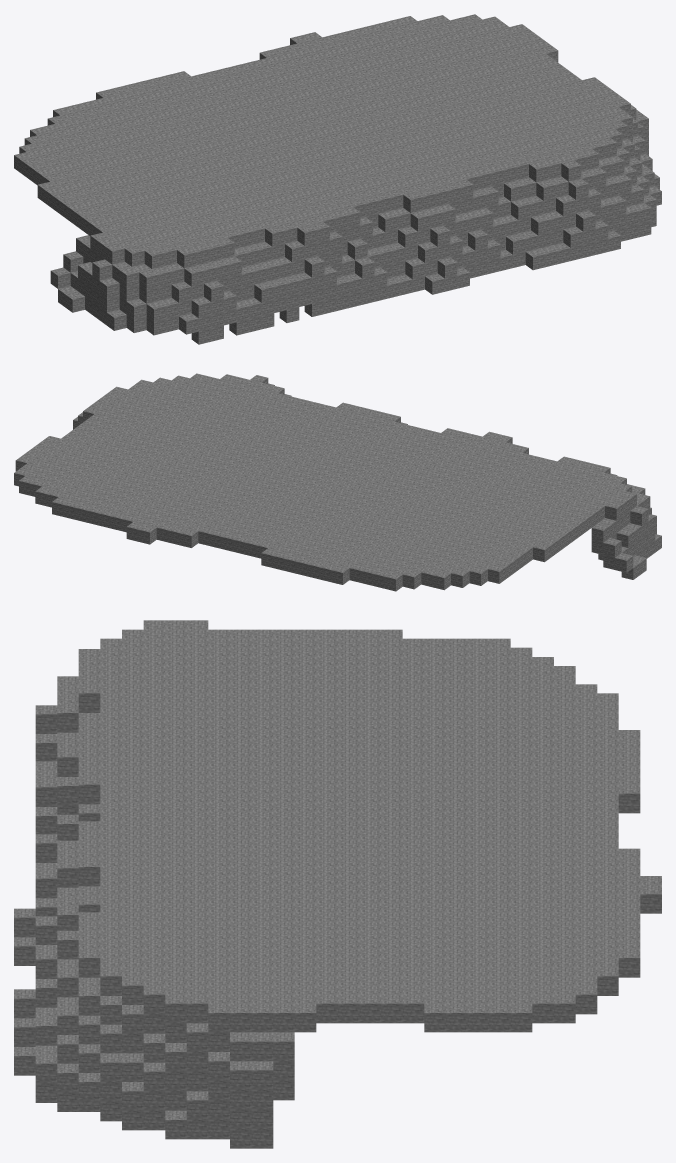
File: stone-terrain.glb
3 renders of one model, top to bottom at view 1: azimuth 30°, elevation 25°; view 2: azimuth 150°, elevation 25°; view 3: azimuth 270°, elevation 25°, orthographic. The views are drawn at different scales.
Parts seen in each view (by area): view 1: Indie__37_73_-293_to_87_100_-253; view 2: Indie__37_73_-293_to_87_100_-253; view 3: Indie__37_73_-293_to_87_100_-253.
Part boxes in pixels (box(x1,y1,x2,y2)): Indie__37_73_-293_to_87_100_-253: box(14, 14, 661, 344); Indie__37_73_-293_to_87_100_-253: box(14, 373, 661, 591); Indie__37_73_-293_to_87_100_-253: box(14, 620, 661, 1148).
Bounding box in the file's own units: 47 × 6 × 30.
1 material, 1 textured.
